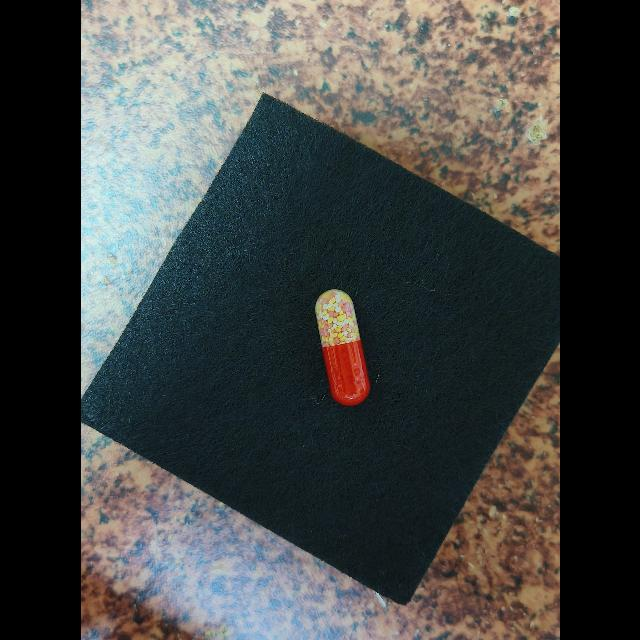Intact Capsule: (314, 289, 370, 406)
